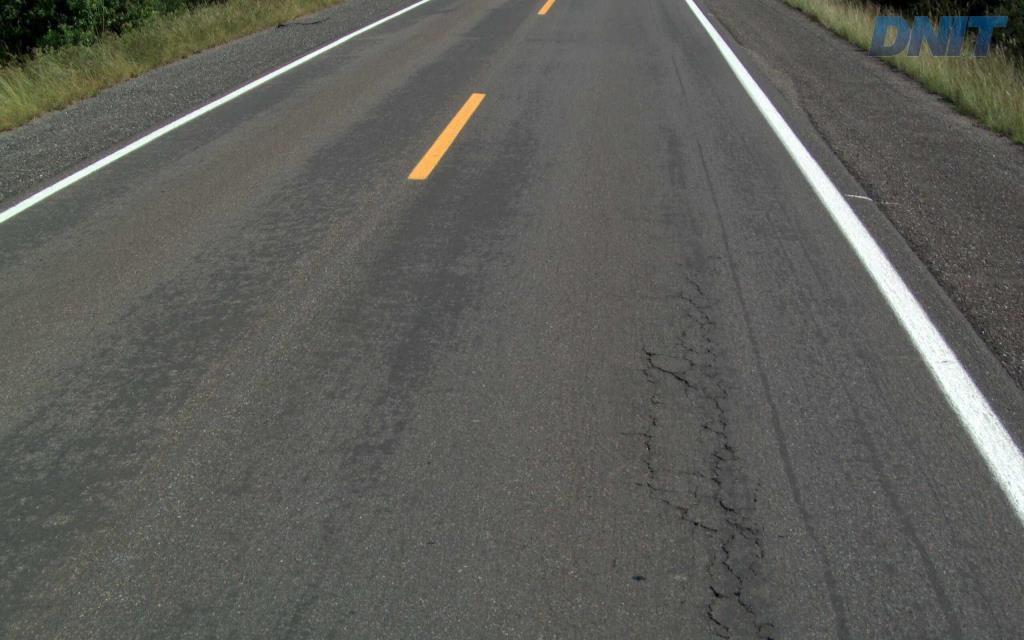crack: (703, 533, 756, 632)
